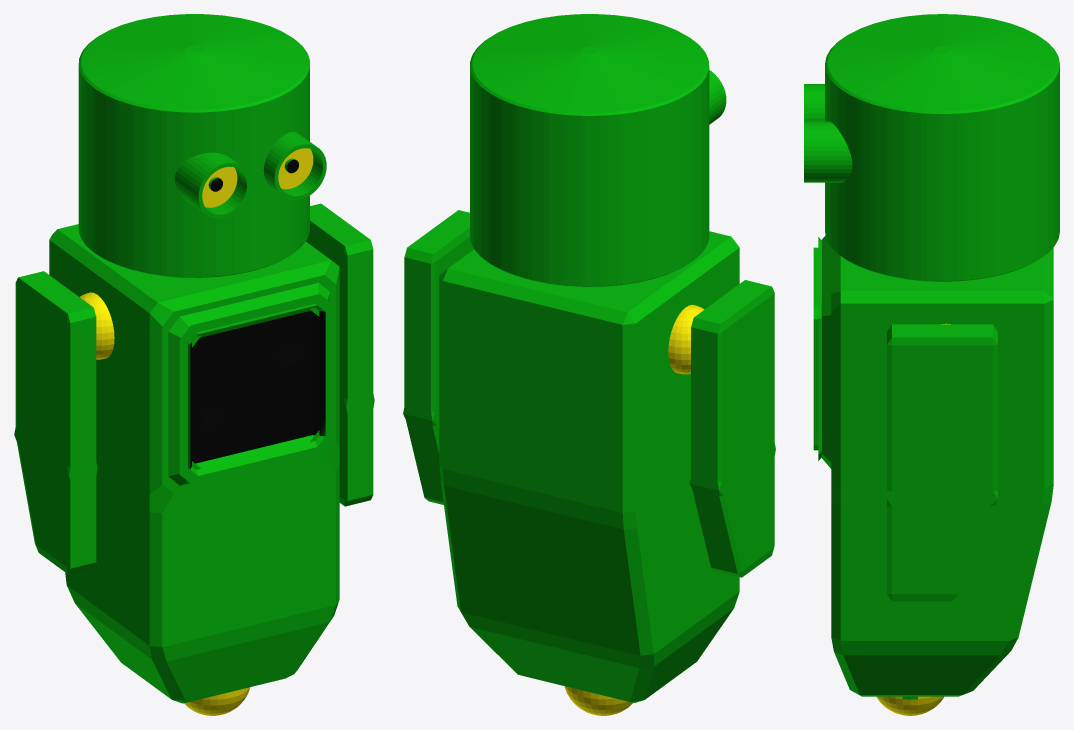
The model's file is Green_Robot.glb.
The picture shows the model from 3 angles, left to right: view 1: azimuth 30°, elevation 25°; view 2: azimuth 150°, elevation 25°; view 3: azimuth 270°, elevation 25°; orthographic projection. The views are drawn at different scales.
Parts seen in each view (by area): view 1: Cube.001; view 2: Cube.001; view 3: Cube.001.
Part boxes in pixels (bbox=[...]): Cube.001: bbox=[14, 14, 374, 715]; Cube.001: bbox=[403, 14, 775, 715]; Cube.001: bbox=[804, 14, 1059, 715].
Size of the model in its own units: 3.22 by 6.56 by 2.3.
1 material, 1 textured.
